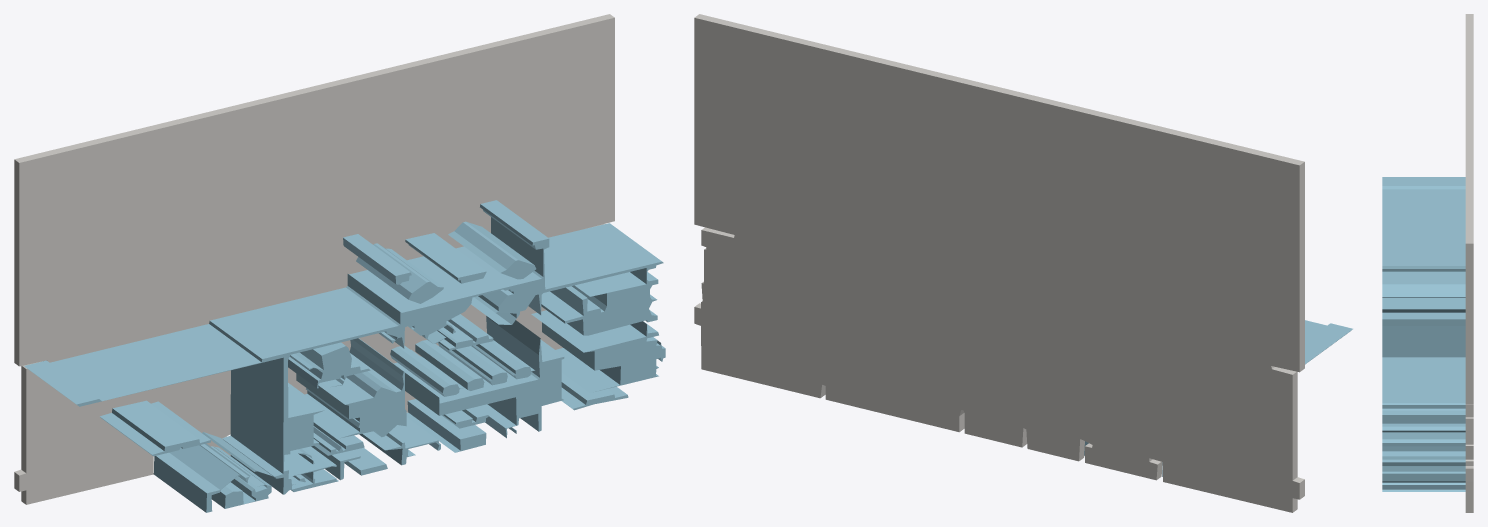
The picture shows the model from 3 angles, left to right: view 1: azimuth 30°, elevation 25°; view 2: azimuth 150°, elevation 25°; view 3: azimuth 270°, elevation 25°; orthographic projection. The views are drawn at different scales.
Visible parts, largest first — view 1: world; view 2: world; view 3: world.
Boxes of the visible parts, left/top/right/bottom form: world: left=14, top=14, right=665, bottom=512; world: left=694, top=14, right=1352, bottom=512; world: left=1382, top=14, right=1473, bottom=512.
Bounding box in the file's own units: 10.23 × 5.66 × 1.72.
